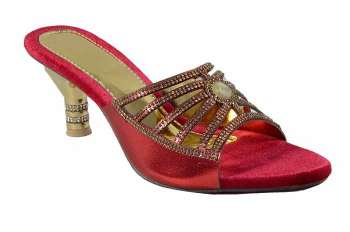Footwear: (21, 23, 333, 196)
